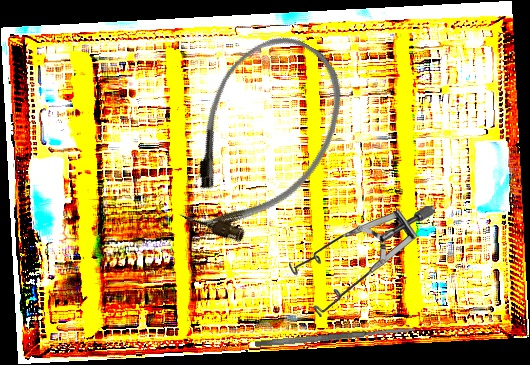Cannula: (153, 16, 368, 263)
Spatula Surgical: (254, 326, 416, 348)
Speculum: (289, 206, 435, 317)
